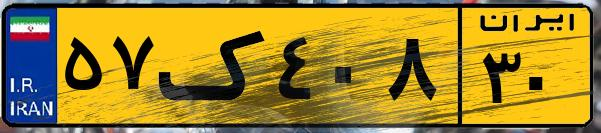0: (330, 28, 385, 110), (525, 38, 570, 115)
3: (475, 38, 525, 113)
4: (270, 28, 330, 110)
5: (57, 26, 110, 100)
7: (110, 28, 158, 98)
8: (385, 28, 445, 110)
ک: (158, 12, 270, 120)
